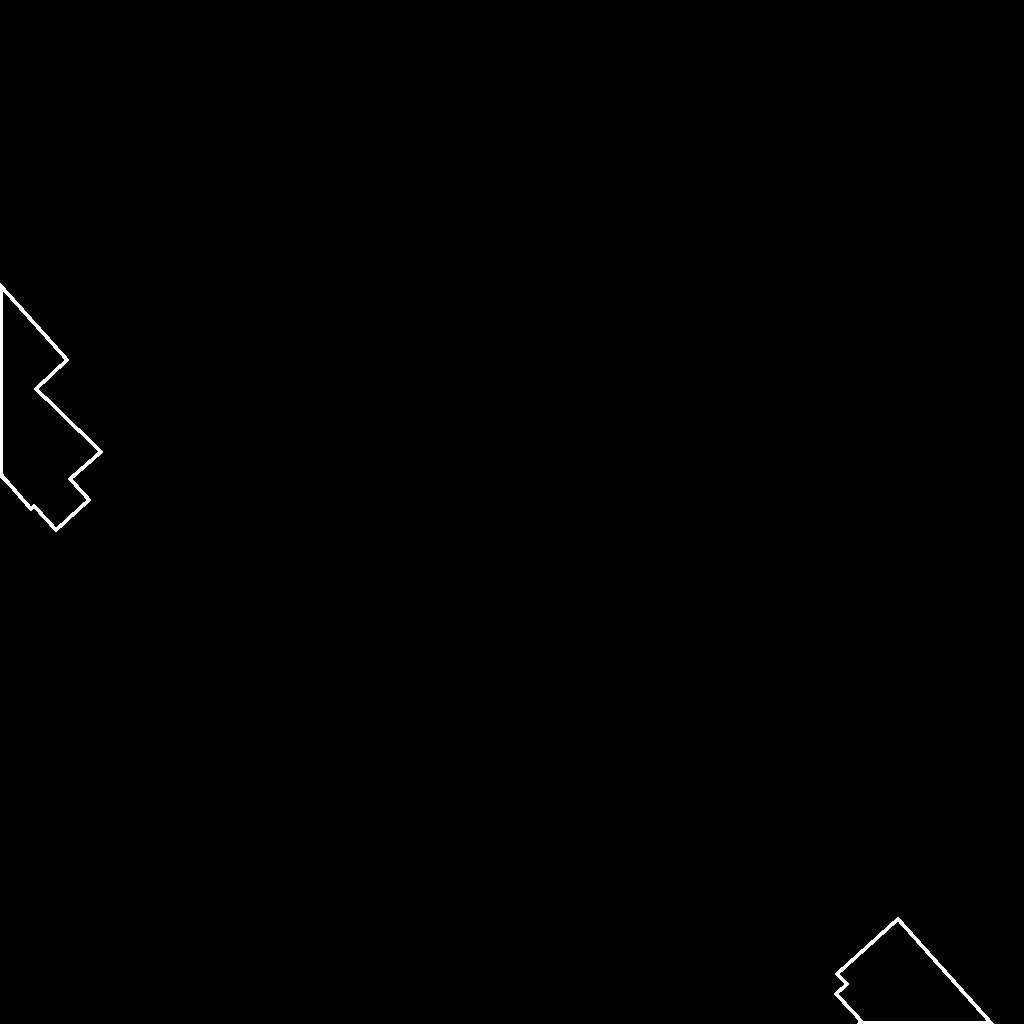building: (0, 285, 102, 531), (836, 919, 993, 1024)
